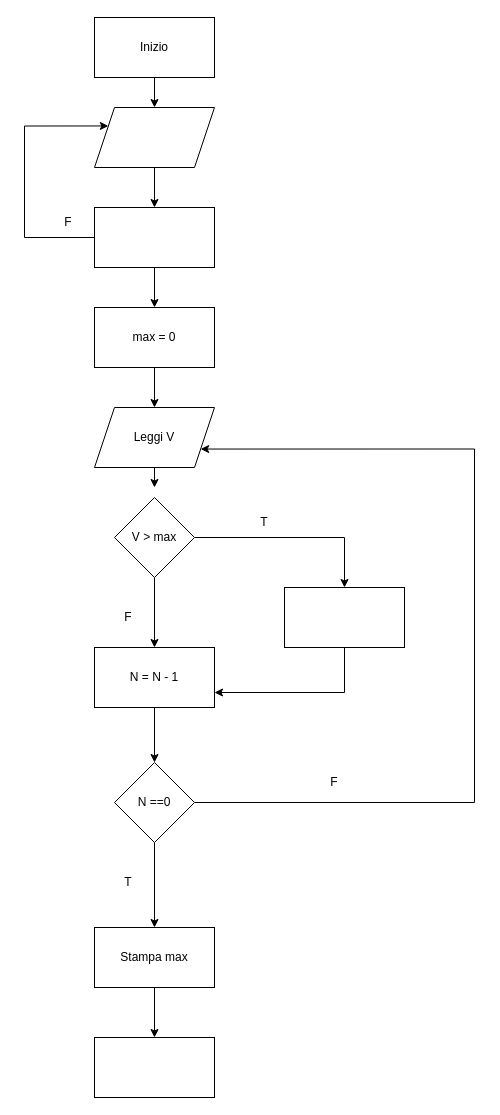
Image size: 500x1115. Some labels were removed from this diagram. The shapes that lost their labels are listed below. From the top down, each one's centre as x and y in pixels, then its label:
At point (154, 137): "Leggi N".
At point (154, 237): "N > 0".
At point (344, 617): "max = V".
At point (154, 1067): "Fine".
